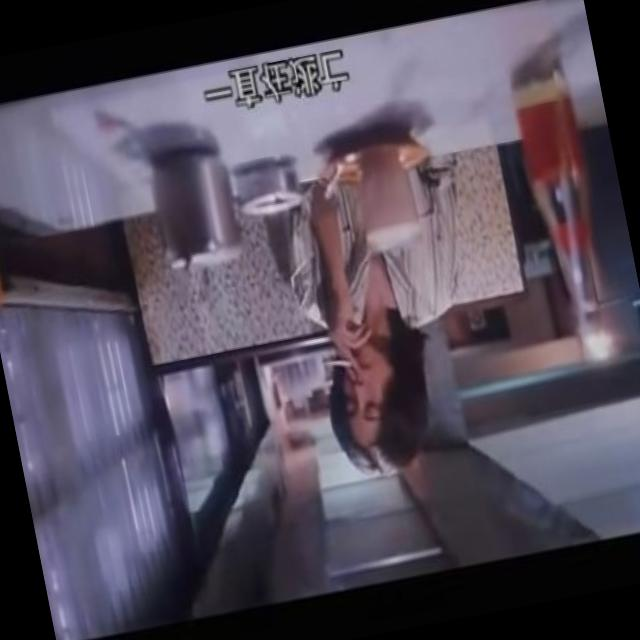smoke: (316, 355, 354, 377)
